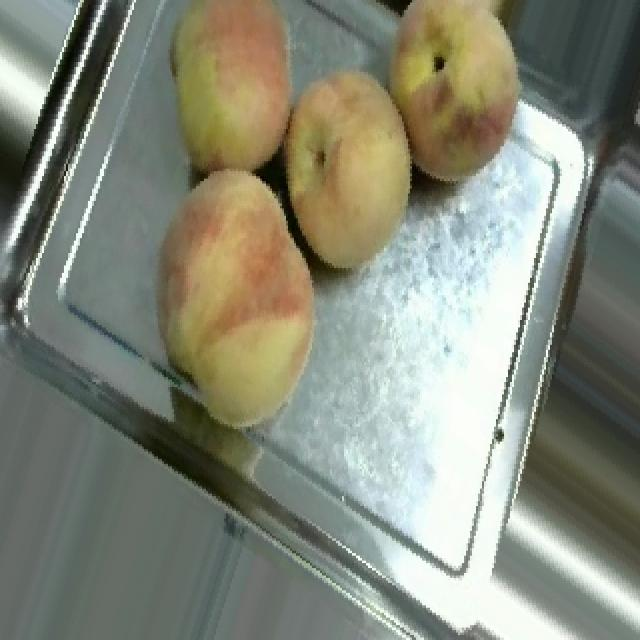Fruit: (118, 146, 342, 449), (252, 45, 446, 290), (352, 0, 546, 208), (138, 0, 324, 206)
